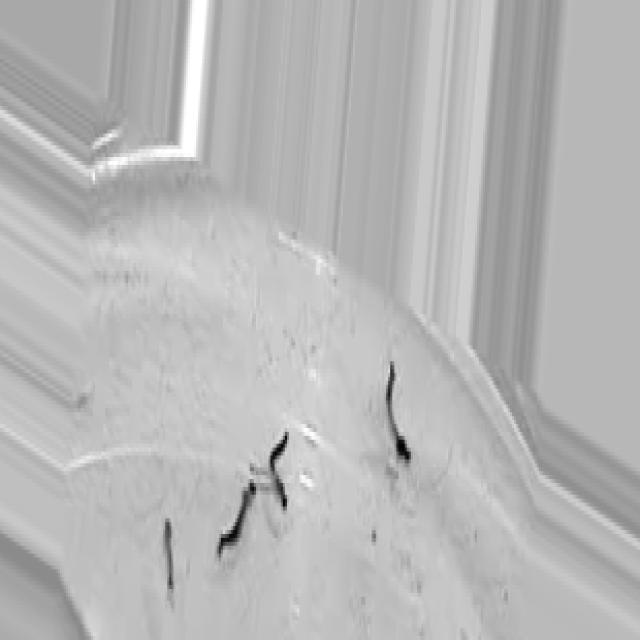larvas: (384, 365, 410, 468), (220, 479, 256, 550), (271, 437, 292, 504), (162, 514, 175, 590), (250, 464, 276, 482)
